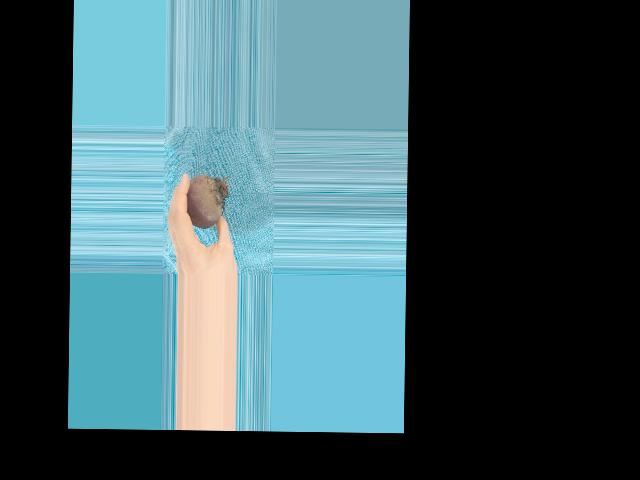beet: (187, 174, 230, 228)
